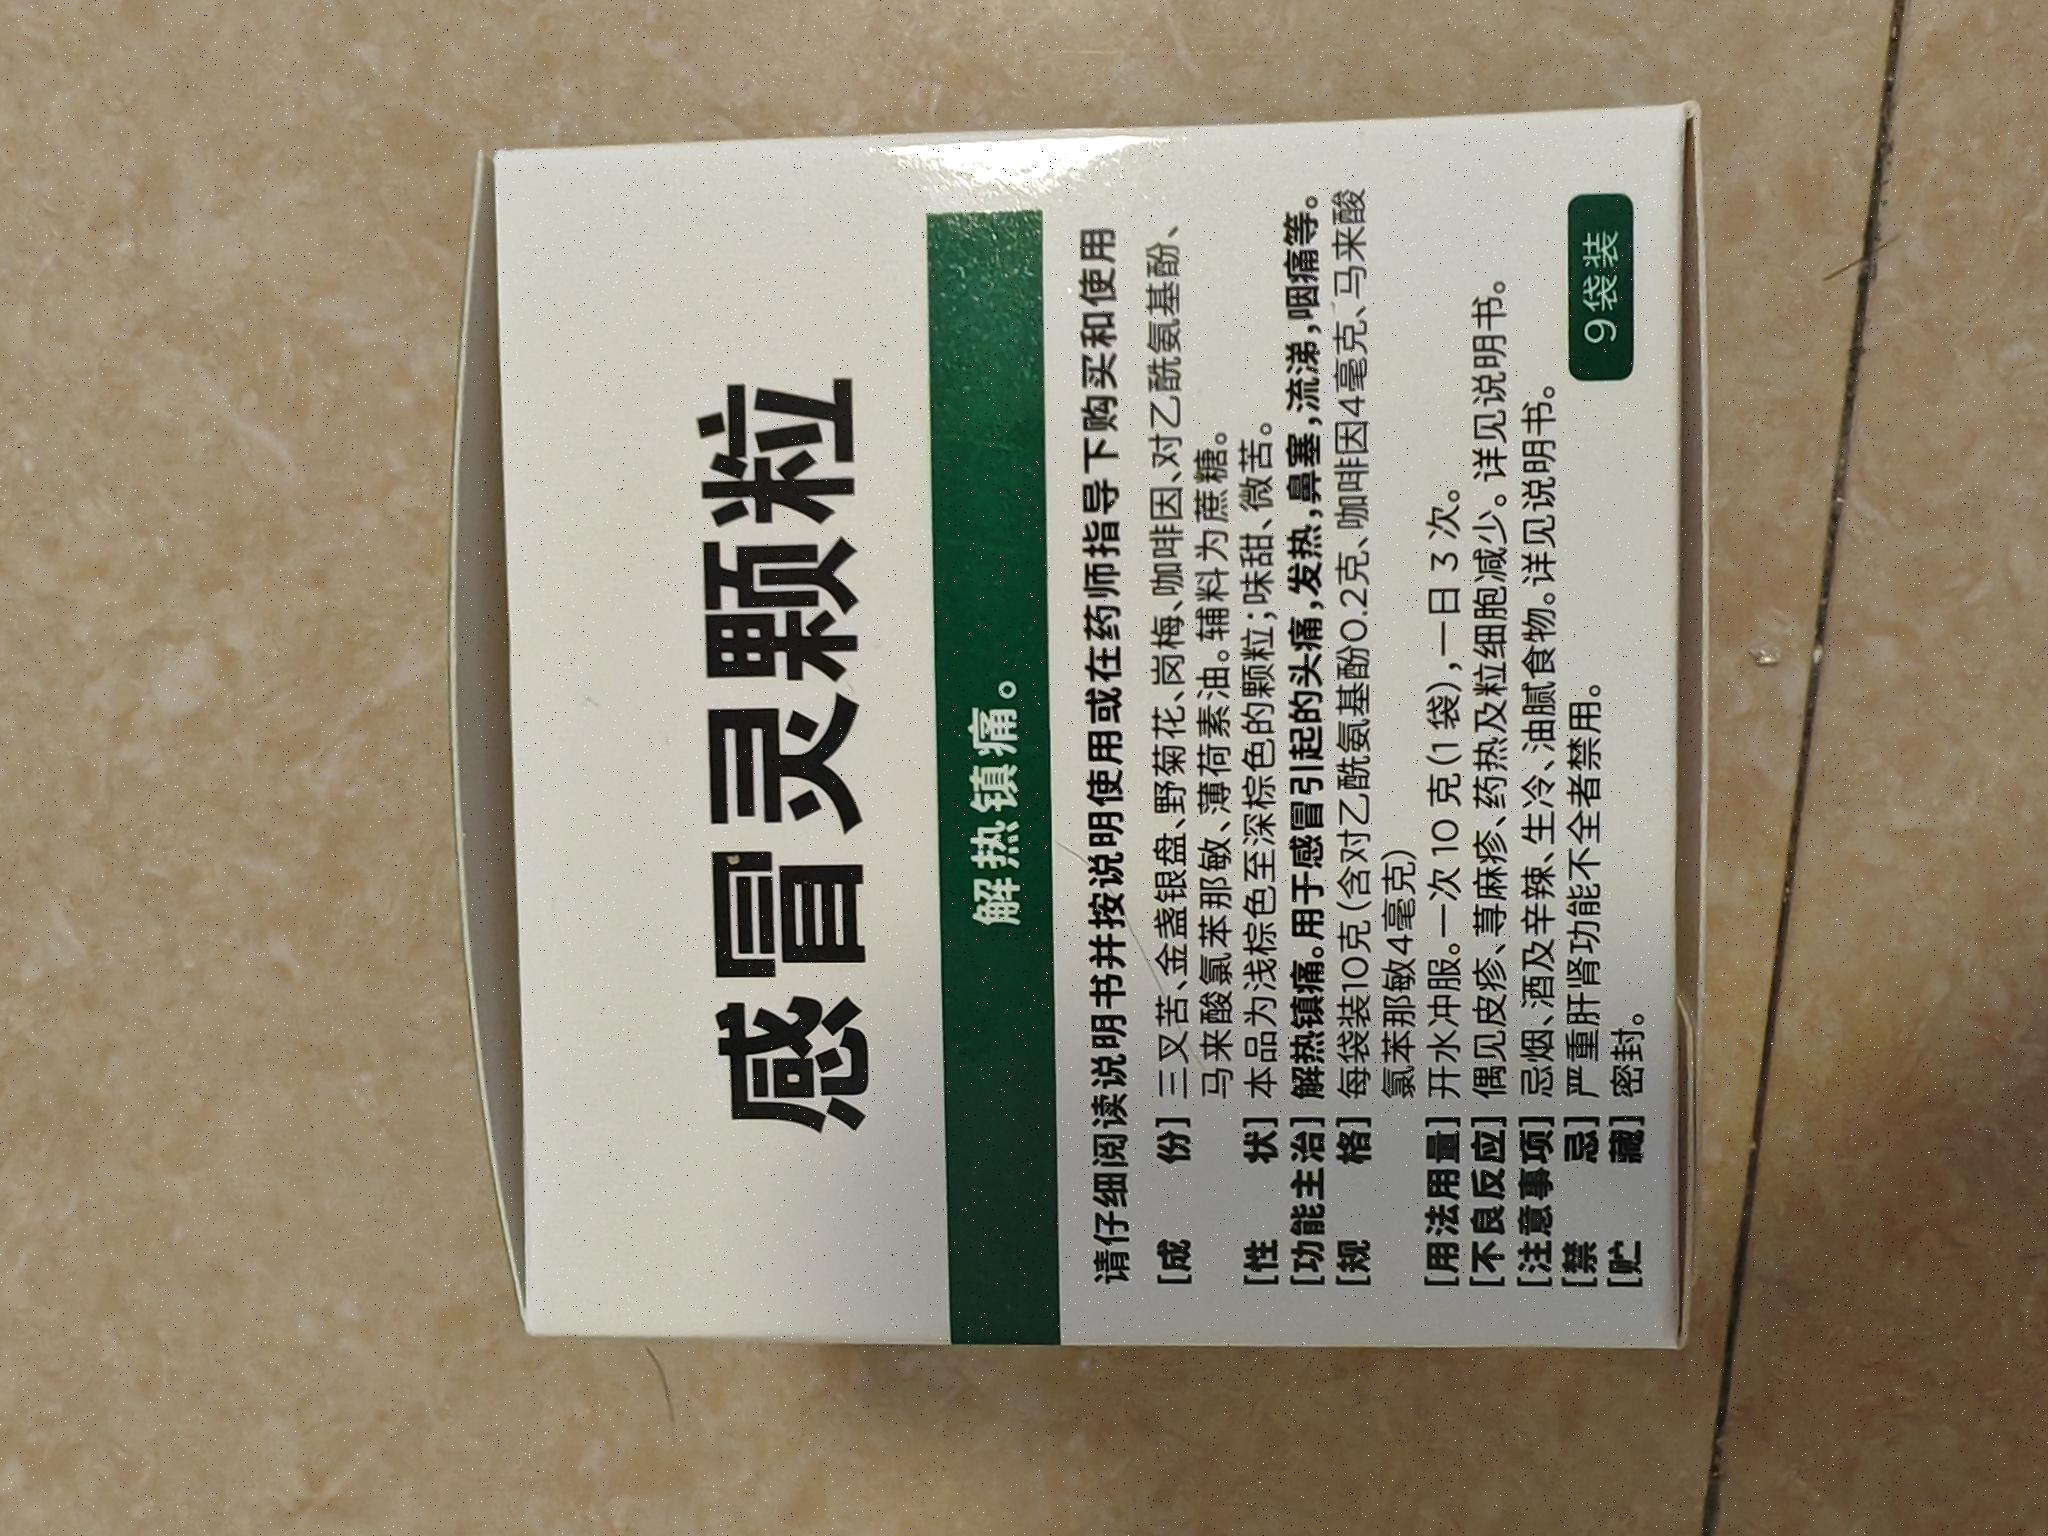Medicine3: (426, 89, 1730, 1391)
